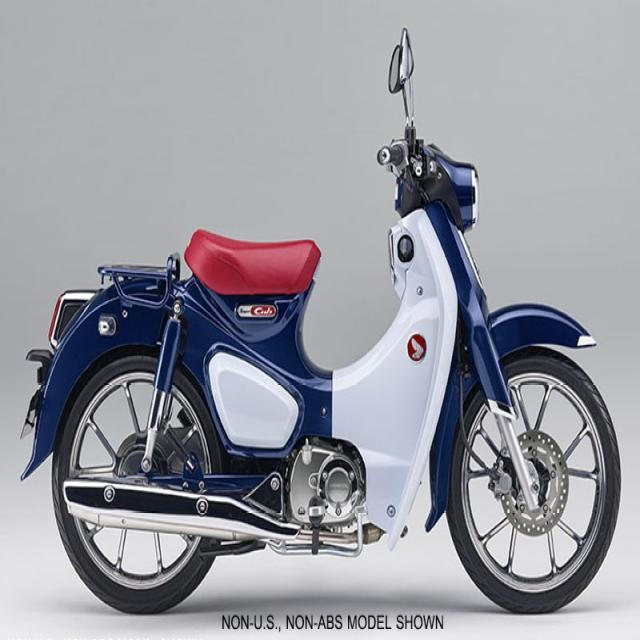Motorcycle: (15, 23, 629, 620)
